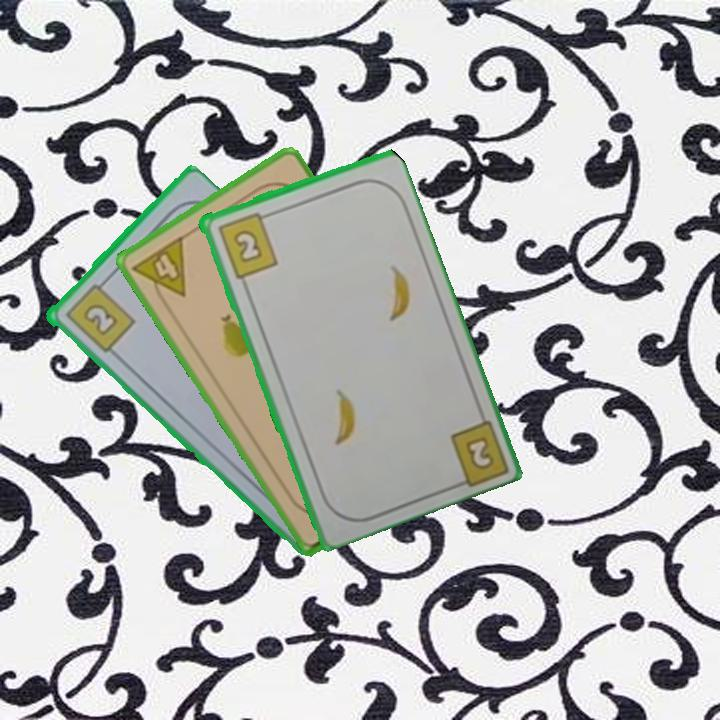2b: (61, 275, 137, 356), (214, 208, 280, 281), (461, 432, 497, 473)
4p: (129, 232, 189, 311)
